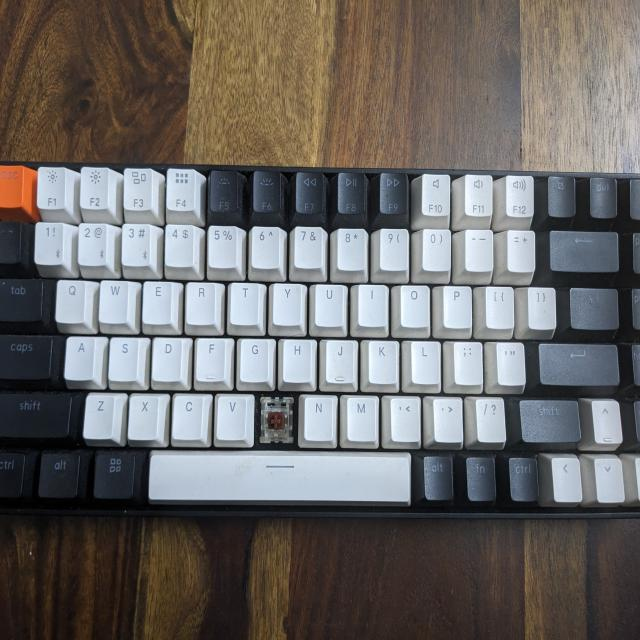C: (258, 393, 296, 446)
